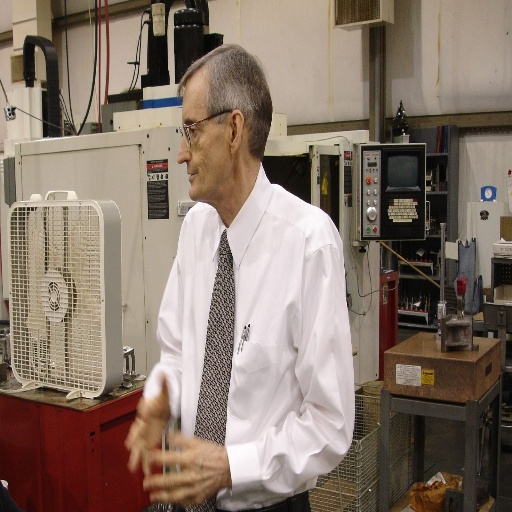hand: (134, 415, 236, 498), (120, 367, 173, 478)
